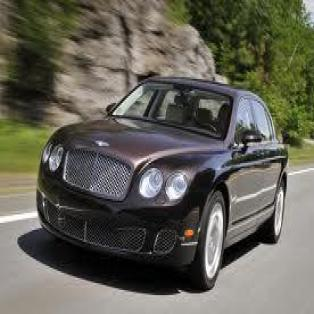Auto: (34, 74, 290, 293)
